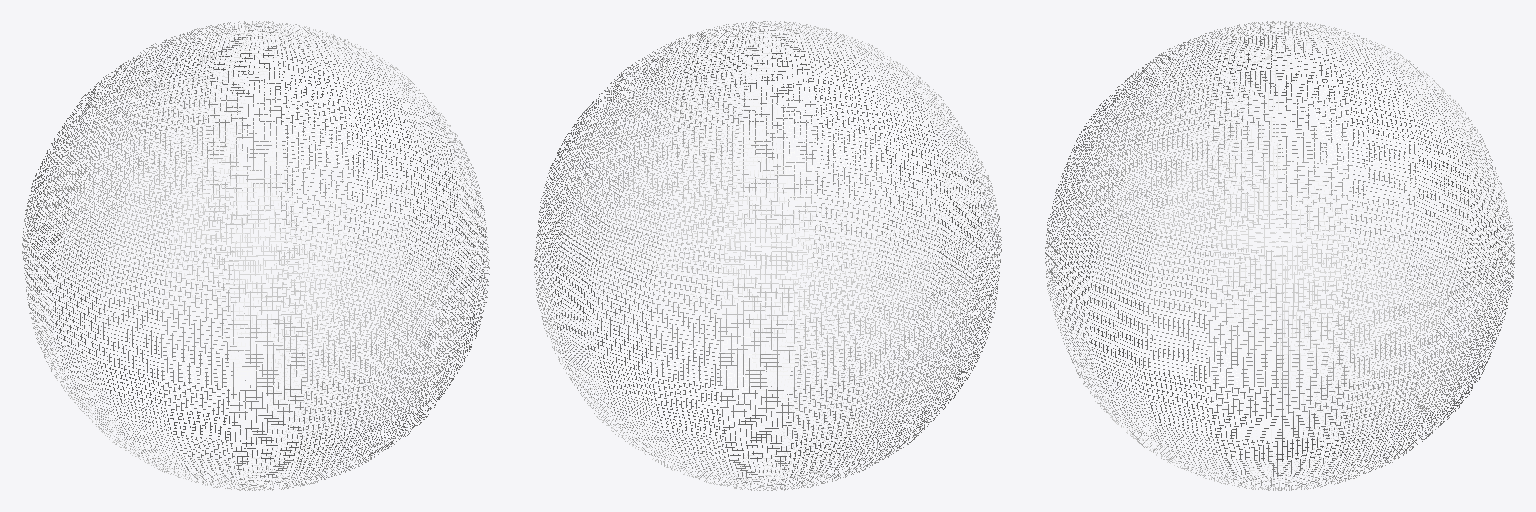
3 views of the same model, side by side, from view 1: azimuth 30°, elevation 25°; view 2: azimuth 150°, elevation 25°; view 3: azimuth 270°, elevation 25° (orthographic).
Visible parts, largest first — view 1: pSphere5; view 2: pSphere5; view 3: pSphere5.
Boxes of the visible parts, x1,y1,x2,y2 form: pSphere5: [22, 21, 489, 490]; pSphere5: [534, 21, 1001, 490]; pSphere5: [1045, 21, 1514, 490].
Size of the model in its own units: 2 by 2 by 2.
Materials: 1 (1 with a texture image).